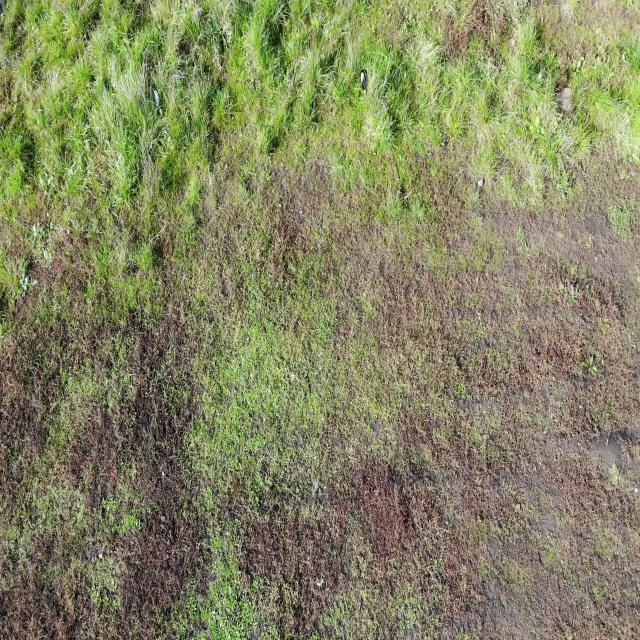rubbish: (150, 88, 163, 119), (360, 68, 367, 98)
